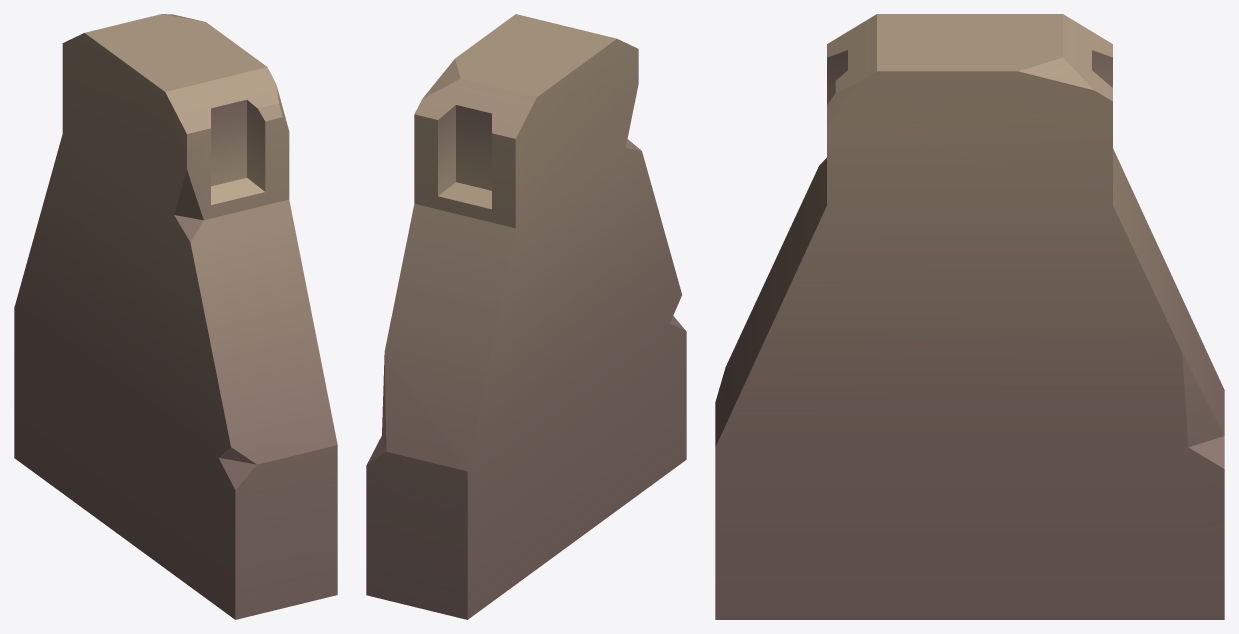
File: WallSection_Medium_connector.fbx
3 views of the same model, side by side, from view 1: azimuth 30°, elevation 25°; view 2: azimuth 150°, elevation 25°; view 3: azimuth 270°, elevation 25° (orthographic). The views are drawn at different scales.
Parts seen in each view (by area): view 1: WallSection_Medium_connector; view 2: WallSection_Medium_connector; view 3: WallSection_Medium_connector.
Part boxes in pixels (<box>): WallSection_Medium_connector: <box>14,14,337,619</box>; WallSection_Medium_connector: <box>366,14,686,619</box>; WallSection_Medium_connector: <box>715,14,1224,619</box>.
Bounding box in the file's own units: 81.13 × 361 × 304.
